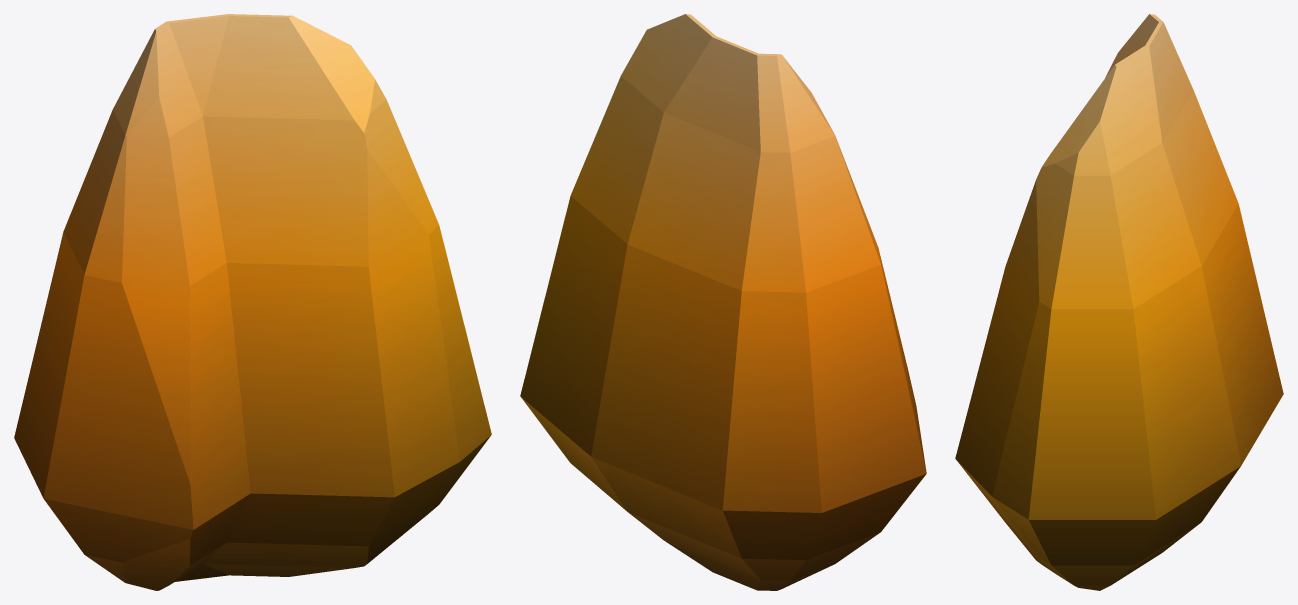
The model's file is boulder7.FBX.
3 renders of one model, left to right at view 1: azimuth 30°, elevation 25°; view 2: azimuth 150°, elevation 25°; view 3: azimuth 270°, elevation 25°, orthographic. The views are drawn at different scales.
Visible parts, largest first — view 1: boulder7; view 2: boulder7; view 3: boulder7.
Part boxes in pixels (left/top/right/bottom): boulder7: left=14, top=14, right=491, bottom=590; boulder7: left=520, top=14, right=926, bottom=590; boulder7: left=955, top=14, right=1283, bottom=590.
Bounding box in the file's own units: 1 × 0.7726 × 1.33.
Materials: 1 (1 with a texture image).
